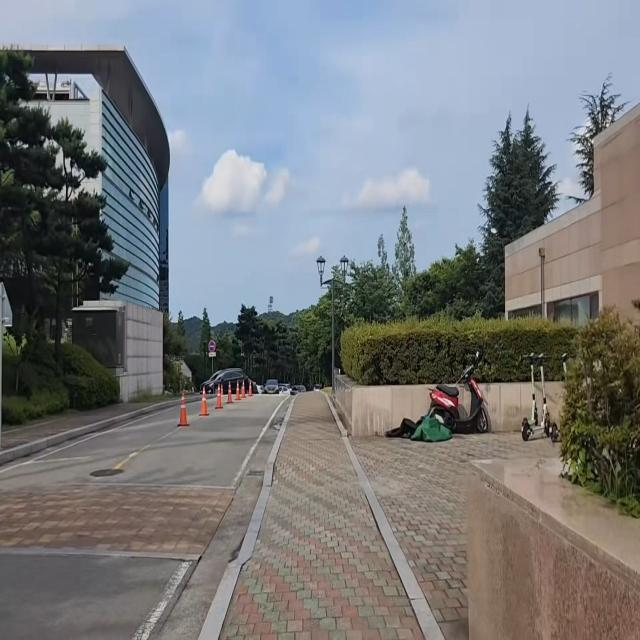obstacle: (418, 342, 500, 441), (517, 344, 561, 443), (0, 267, 16, 461), (174, 381, 191, 436)
road: (0, 397, 289, 640)
sidewalk: (199, 388, 452, 640), (0, 401, 174, 453)
